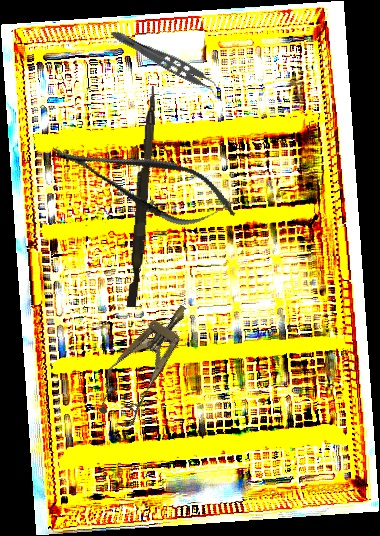Micro Scissor: (41, 120, 246, 243)
Pusher: (126, 85, 158, 308)
Speculum: (86, 291, 206, 433)
Tissue Forceps: (104, 26, 226, 101)
